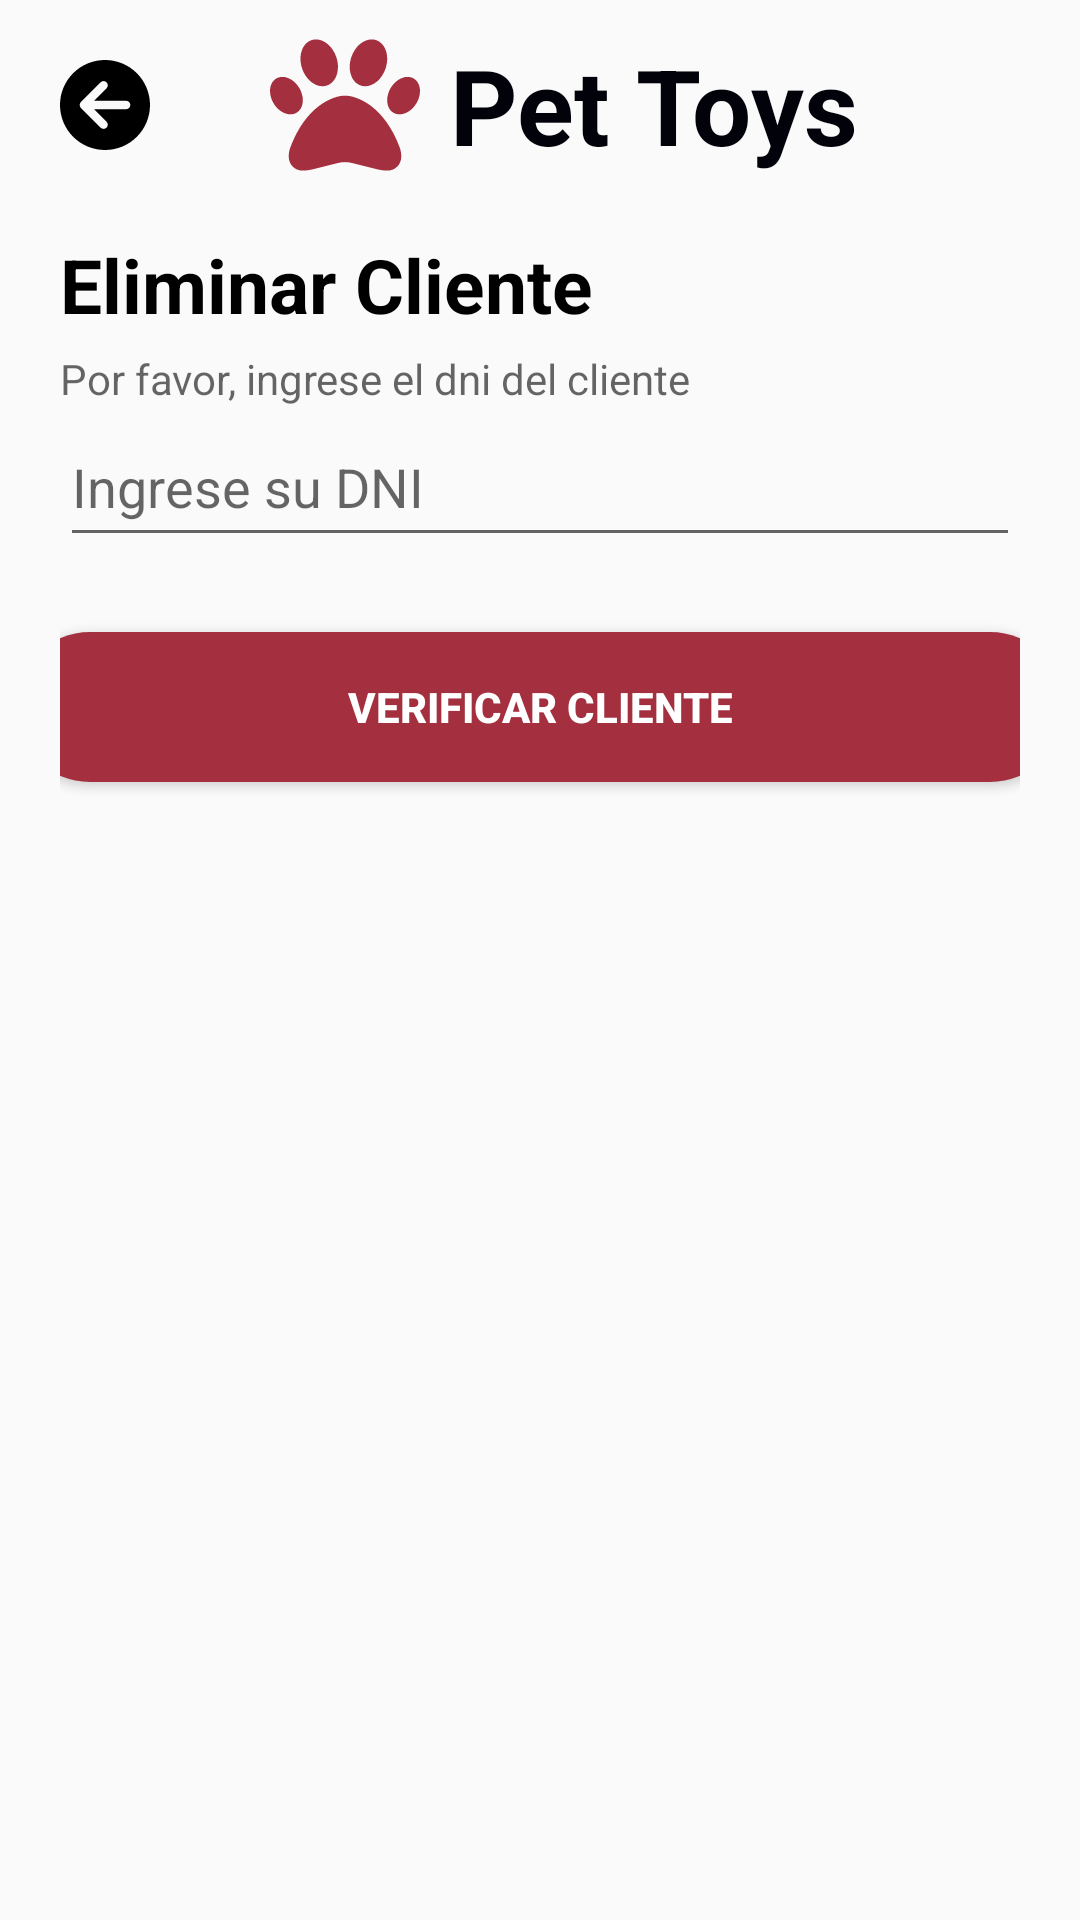

Screen size 1080*1920. Icon name, then its center in pixels as (x,y):
paw: (345,105)
